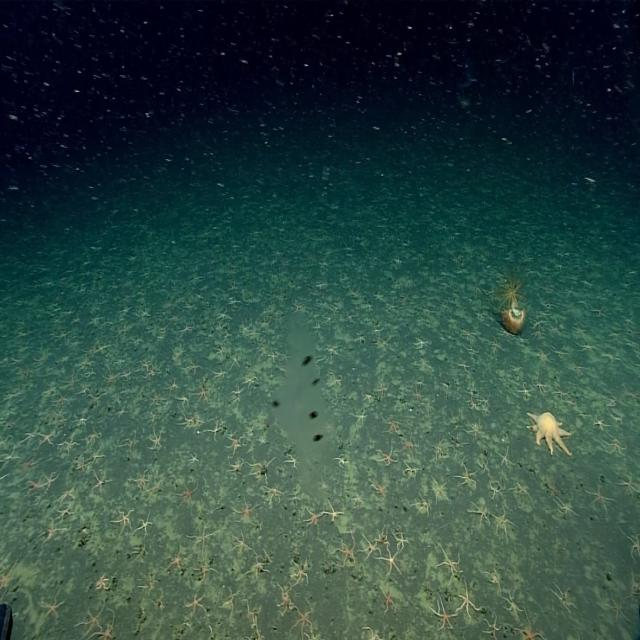brittle-stars: (215, 578, 243, 625), (292, 602, 316, 638), (41, 588, 66, 620), (432, 599, 457, 631), (456, 582, 478, 618), (189, 523, 216, 552), (517, 614, 544, 640), (134, 570, 161, 596), (81, 606, 106, 634), (552, 584, 576, 613), (337, 534, 358, 567), (439, 548, 462, 578), (604, 595, 628, 623), (588, 483, 612, 510), (148, 588, 170, 617), (381, 548, 402, 578), (26, 466, 43, 502), (234, 499, 256, 526), (128, 543, 156, 564), (248, 458, 272, 482), (601, 383, 624, 408), (175, 482, 198, 506), (183, 592, 206, 616), (374, 519, 395, 545), (624, 529, 640, 563), (494, 509, 514, 536), (19, 451, 38, 479), (39, 520, 62, 543), (248, 554, 268, 580), (278, 584, 295, 614), (0, 386, 22, 409), (468, 501, 489, 525), (111, 509, 132, 533), (290, 560, 309, 586), (504, 591, 523, 617), (359, 534, 379, 558), (456, 463, 476, 487), (0, 561, 16, 591), (101, 612, 119, 638), (93, 469, 112, 493), (430, 477, 448, 502), (556, 494, 576, 516), (196, 559, 216, 581), (169, 545, 185, 572), (619, 475, 639, 496), (379, 445, 398, 467), (414, 494, 432, 517), (399, 434, 416, 458), (234, 530, 251, 554), (137, 512, 154, 536), (378, 374, 394, 399), (496, 448, 514, 470), (610, 408, 628, 430), (484, 616, 501, 639), (605, 440, 628, 457), (146, 478, 163, 501), (40, 470, 58, 491), (392, 528, 408, 551), (373, 477, 389, 500), (382, 588, 396, 614), (304, 508, 323, 527), (72, 382, 91, 401), (326, 502, 344, 522), (466, 420, 484, 440), (0, 448, 20, 466), (344, 282, 362, 302), (538, 296, 560, 312), (628, 570, 640, 599), (265, 486, 284, 504), (59, 486, 77, 505), (123, 434, 140, 454), (246, 602, 262, 623), (62, 437, 80, 455), (57, 505, 75, 523), (361, 626, 384, 640), (432, 438, 445, 462), (149, 428, 163, 450), (513, 482, 531, 499), (532, 376, 548, 395), (226, 433, 242, 452), (96, 572, 112, 591), (362, 388, 378, 407), (575, 409, 594, 425), (472, 304, 488, 323), (135, 469, 150, 489), (38, 429, 55, 446), (86, 428, 102, 446), (449, 432, 464, 451), (604, 350, 624, 364), (552, 344, 569, 360), (147, 389, 163, 406), (90, 448, 106, 465), (104, 369, 119, 387), (196, 386, 211, 404), (579, 340, 597, 355), (23, 426, 38, 444), (291, 297, 305, 316), (488, 568, 501, 588), (594, 416, 610, 432), (487, 337, 503, 353), (64, 374, 80, 390), (405, 462, 420, 479), (385, 417, 400, 434), (184, 359, 200, 374), (54, 392, 70, 407), (285, 453, 299, 470), (208, 422, 222, 439), (96, 339, 110, 356), (182, 412, 196, 429), (548, 481, 562, 498), (489, 481, 503, 498), (351, 489, 364, 507), (478, 459, 491, 477), (330, 375, 345, 390), (75, 413, 90, 428), (77, 356, 92, 371), (553, 386, 569, 400), (536, 347, 550, 363), (568, 361, 584, 375), (56, 327, 72, 341), (137, 356, 151, 372), (548, 323, 562, 339), (446, 411, 459, 428), (232, 350, 244, 368), (413, 384, 425, 402), (353, 410, 367, 425), (415, 337, 430, 351), (230, 458, 244, 473), (418, 356, 431, 372), (589, 306, 606, 318), (172, 344, 184, 361), (248, 629, 266, 640), (244, 375, 258, 389), (260, 316, 274, 330), (179, 322, 193, 336), (90, 313, 104, 327), (519, 383, 532, 398), (213, 364, 226, 379), (177, 392, 190, 407), (167, 379, 180, 394), (121, 324, 134, 339), (75, 457, 87, 473), (461, 328, 477, 340), (325, 344, 338, 358), (458, 359, 471, 373), (337, 453, 349, 468), (289, 488, 300, 504), (217, 309, 230, 322), (572, 323, 585, 336), (386, 300, 399, 313), (187, 452, 199, 466), (146, 365, 158, 379), (214, 344, 226, 358), (238, 323, 250, 337), (464, 346, 478, 358), (194, 415, 204, 431), (139, 307, 151, 320), (164, 299, 176, 312), (422, 303, 435, 315), (147, 411, 159, 424), (398, 290, 411, 302), (233, 386, 244, 400), (229, 294, 241, 306), (532, 318, 544, 330), (379, 338, 391, 350), (372, 323, 383, 336), (480, 392, 490, 406), (268, 349, 278, 363), (118, 354, 128, 368), (250, 325, 260, 339), (0, 436, 9, 451), (372, 290, 384, 301), (121, 368, 132, 380), (323, 314, 334, 326), (362, 301, 373, 313), (532, 328, 544, 339), (119, 306, 131, 317), (441, 279, 452, 291), (346, 311, 356, 324), (280, 349, 290, 362), (467, 397, 477, 410), (317, 300, 328, 311), (316, 279, 327, 290), (183, 302, 194, 313), (566, 396, 576, 408), (330, 303, 340, 315), (170, 312, 180, 324), (228, 282, 240, 292), (256, 344, 266, 356), (482, 406, 491, 416), (304, 288, 312, 298)
